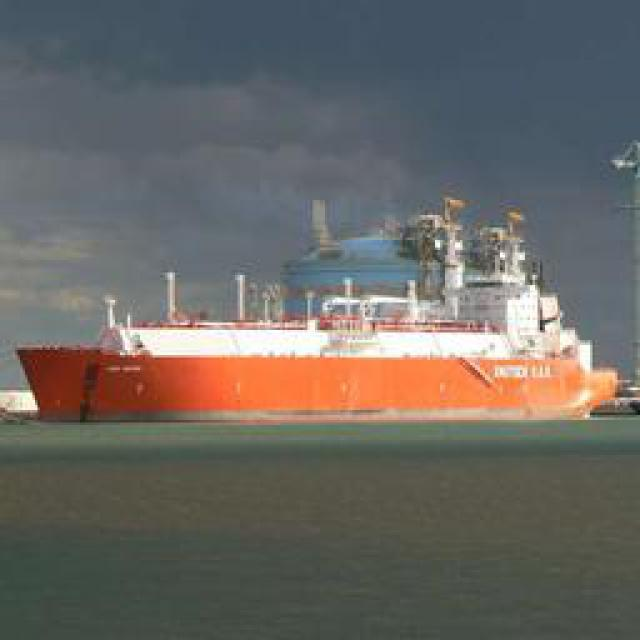Ship: (10, 194, 618, 427)
